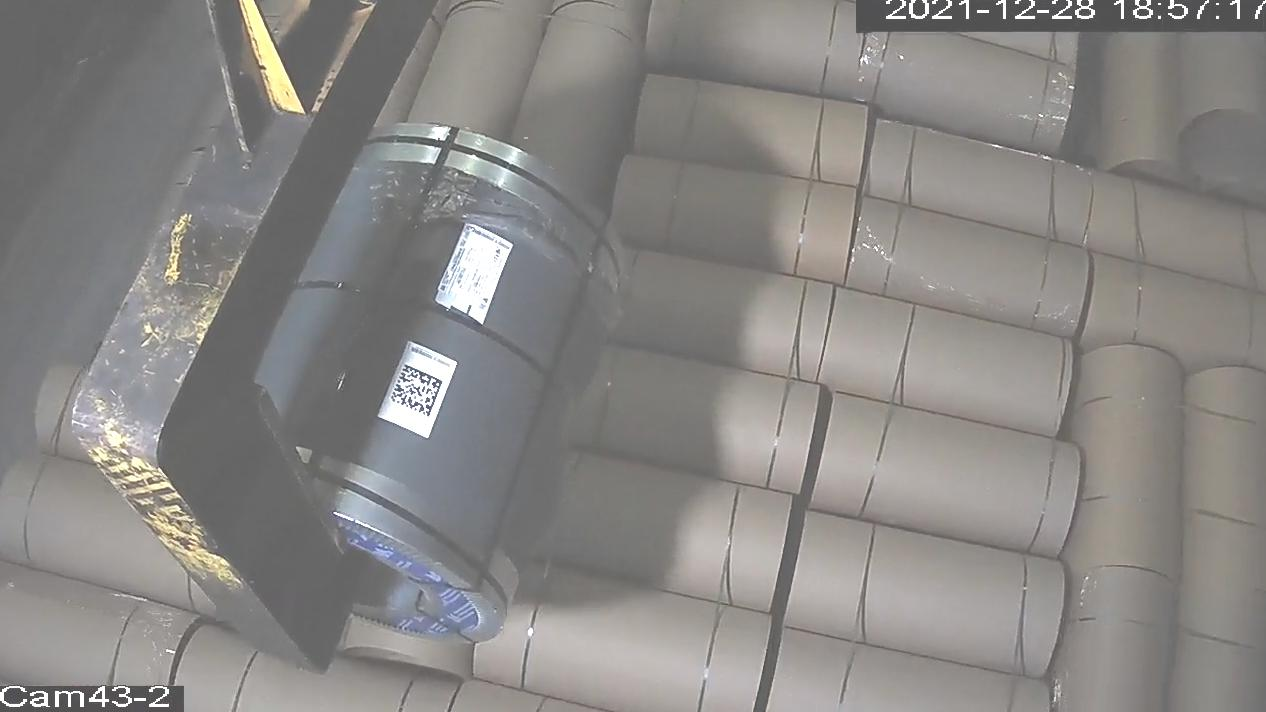data matrix: (389, 363, 446, 420)
